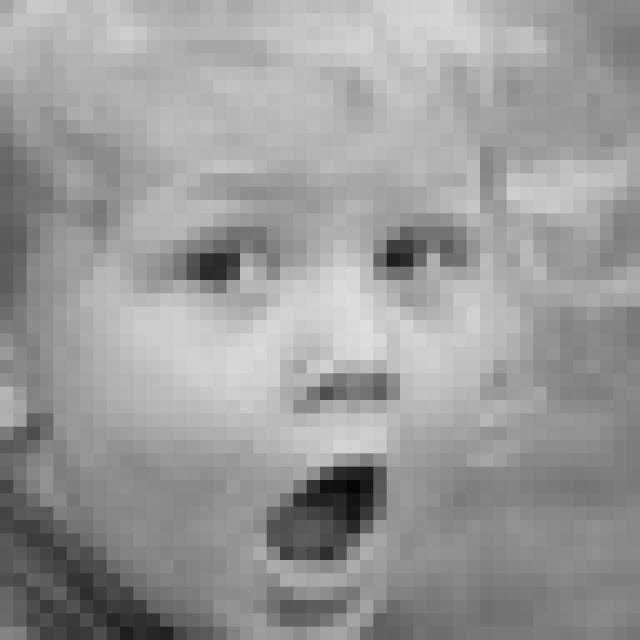surprise: (128, 171, 478, 618)
